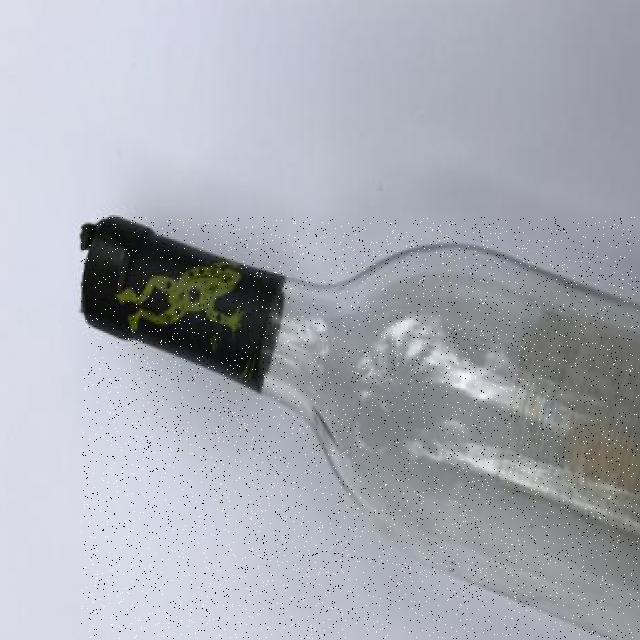glass: (81, 217, 640, 640)
